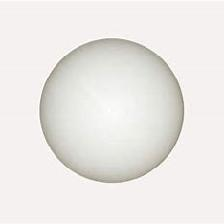WhiteBall: (38, 37, 184, 181)
